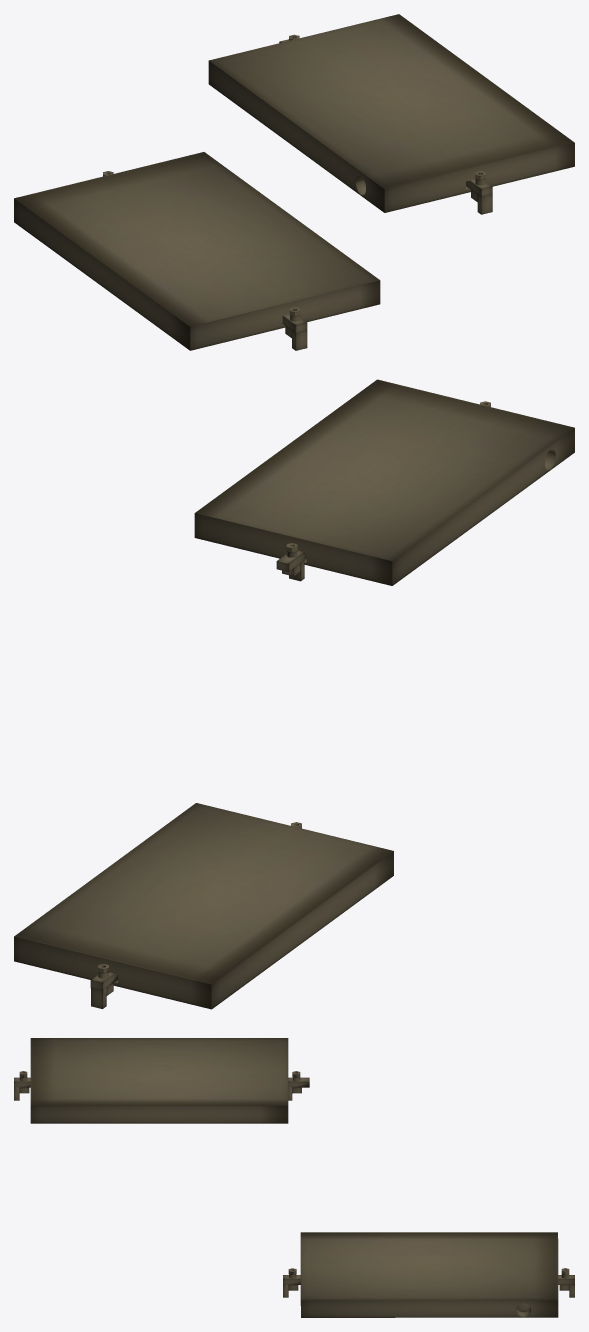
The model's file is 负极置放方块.FBX.
3 renders of one model, top to bottom at view 1: azimuth 30°, elevation 25°; view 2: azimuth 150°, elevation 25°; view 3: azimuth 270°, elevation 25°, orthographic. The views are drawn at different scales.
Parts seen in each view (by area): view 1: Box034, Box033, Cylinder003; view 2: Box034, Box033; view 3: Box034, Box033, Cylinder004, Cylinder003.
Part boxes in pixels (<box>): Box034: <box>14,152,380,350</box>; Box033: <box>208,14,574,212</box>; Cylinder003: <box>466,171,492,214</box>; Box034: <box>14,803,393,1009</box>; Box033: <box>194,379,574,585</box>; Box034: <box>283,1232,574,1317</box>; Box033: <box>30,1038,288,1123</box>; Cylinder004: <box>288,1071,309,1100</box>; Cylinder003: <box>14,1071,30,1100</box>.
Bounding box in the file's own units: 26.37 × 38.69 × 87.15.
Materials: 4 (4 with a texture image).
